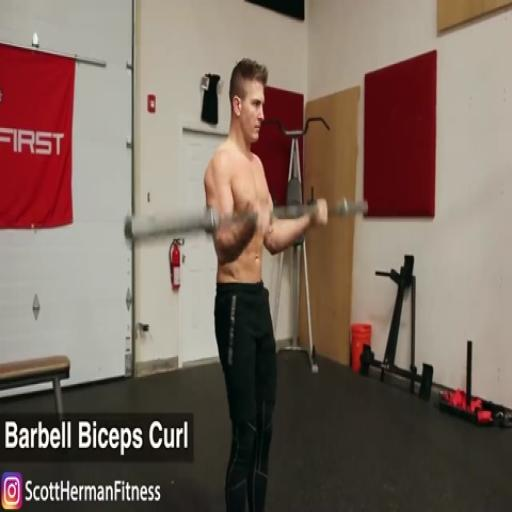exercise: (200, 57, 330, 510)
